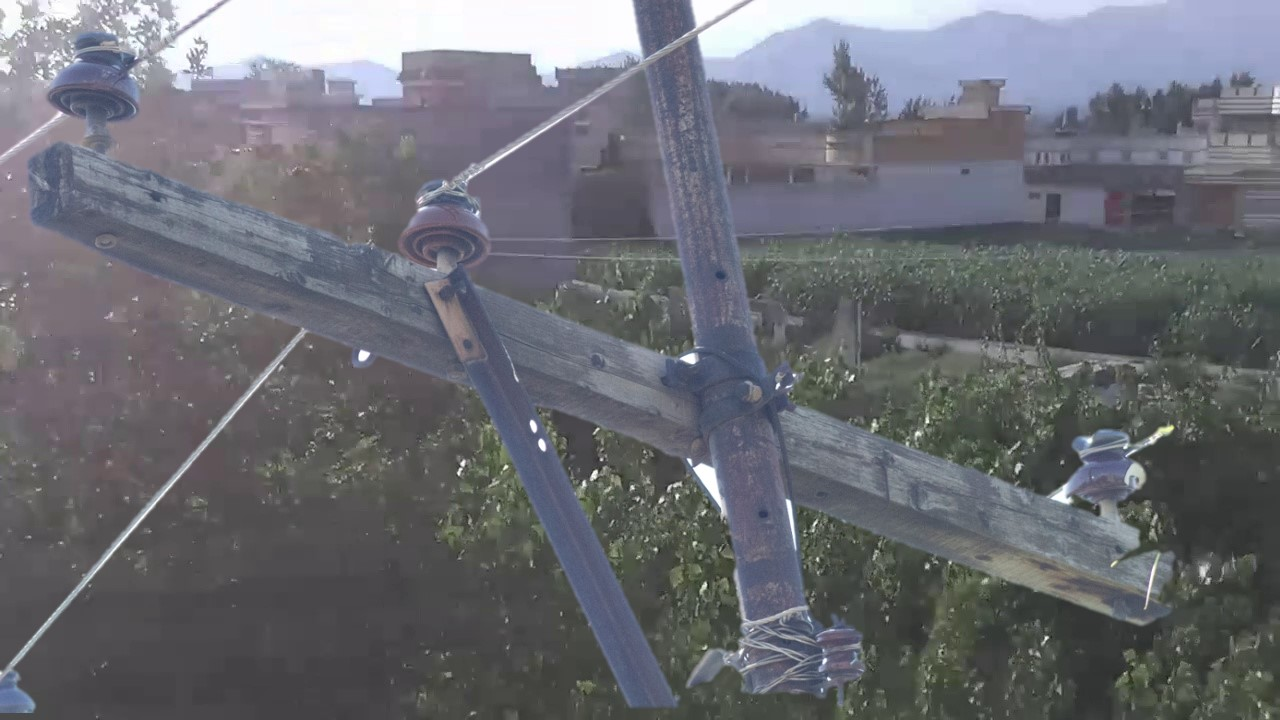defect_pin: (1059, 423, 1154, 512)
insulator_pin: (46, 24, 143, 129), (393, 175, 493, 276)
